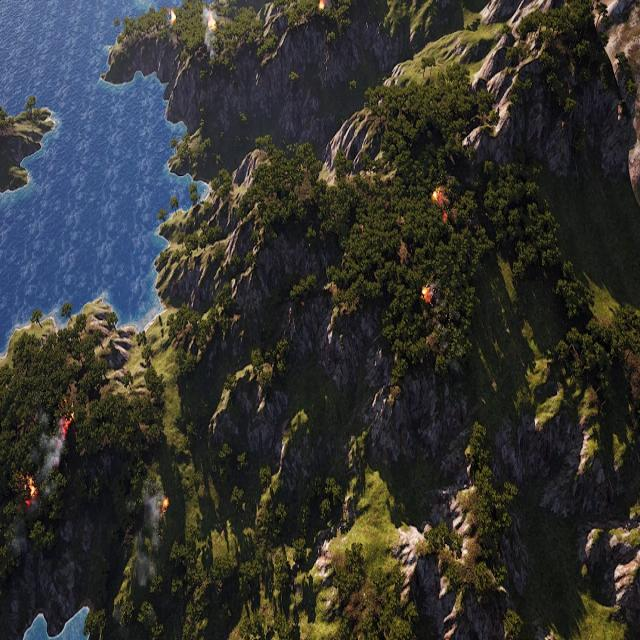fire: (24, 475, 38, 504), (420, 282, 434, 306), (60, 411, 74, 434), (205, 11, 218, 34), (432, 184, 442, 203), (160, 498, 169, 513), (318, 0, 325, 14)
smoke: (136, 487, 167, 584), (42, 431, 68, 493), (202, 0, 221, 70)
